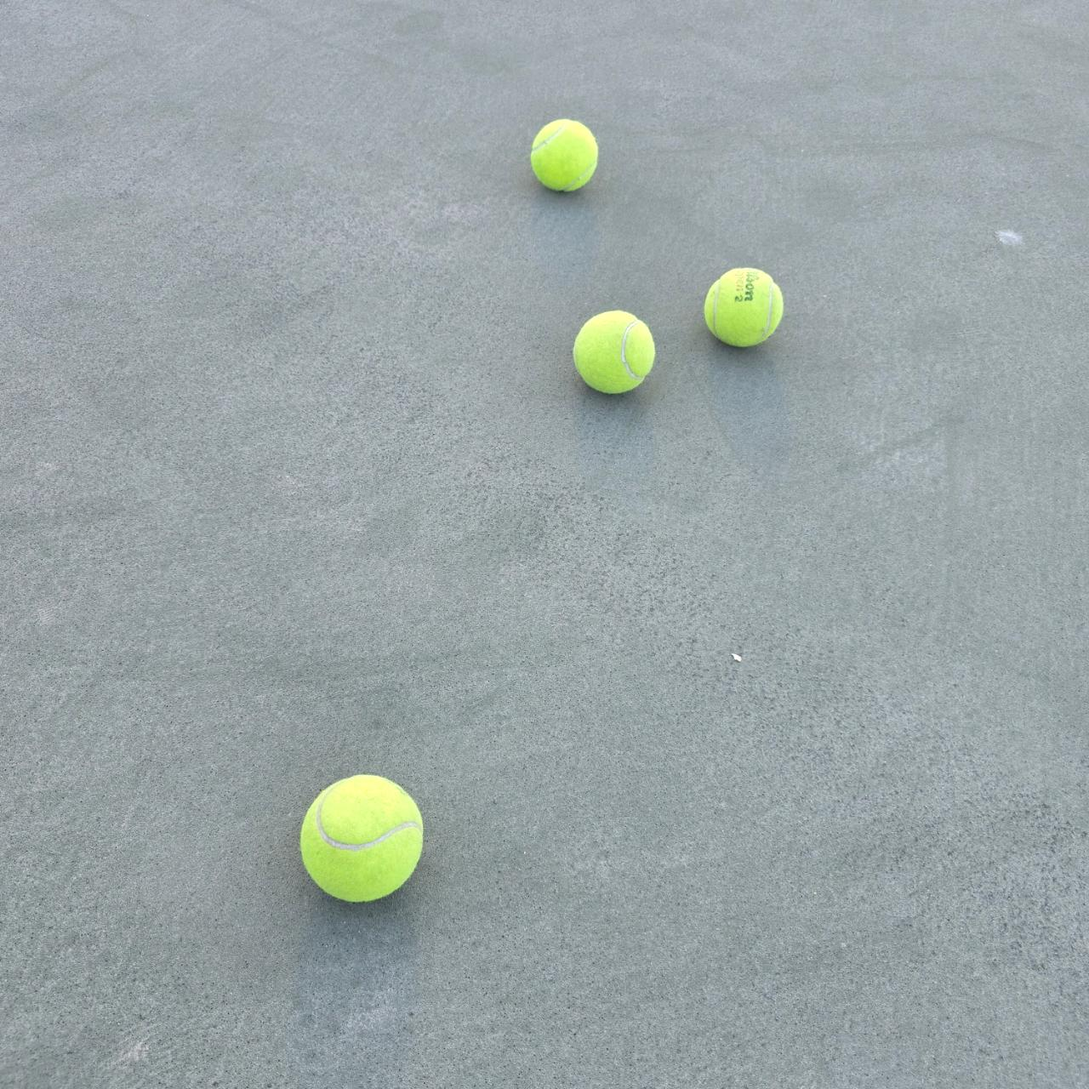tennis-ball: (298, 771, 425, 904), (571, 307, 656, 396), (702, 265, 784, 348), (528, 116, 599, 193)
